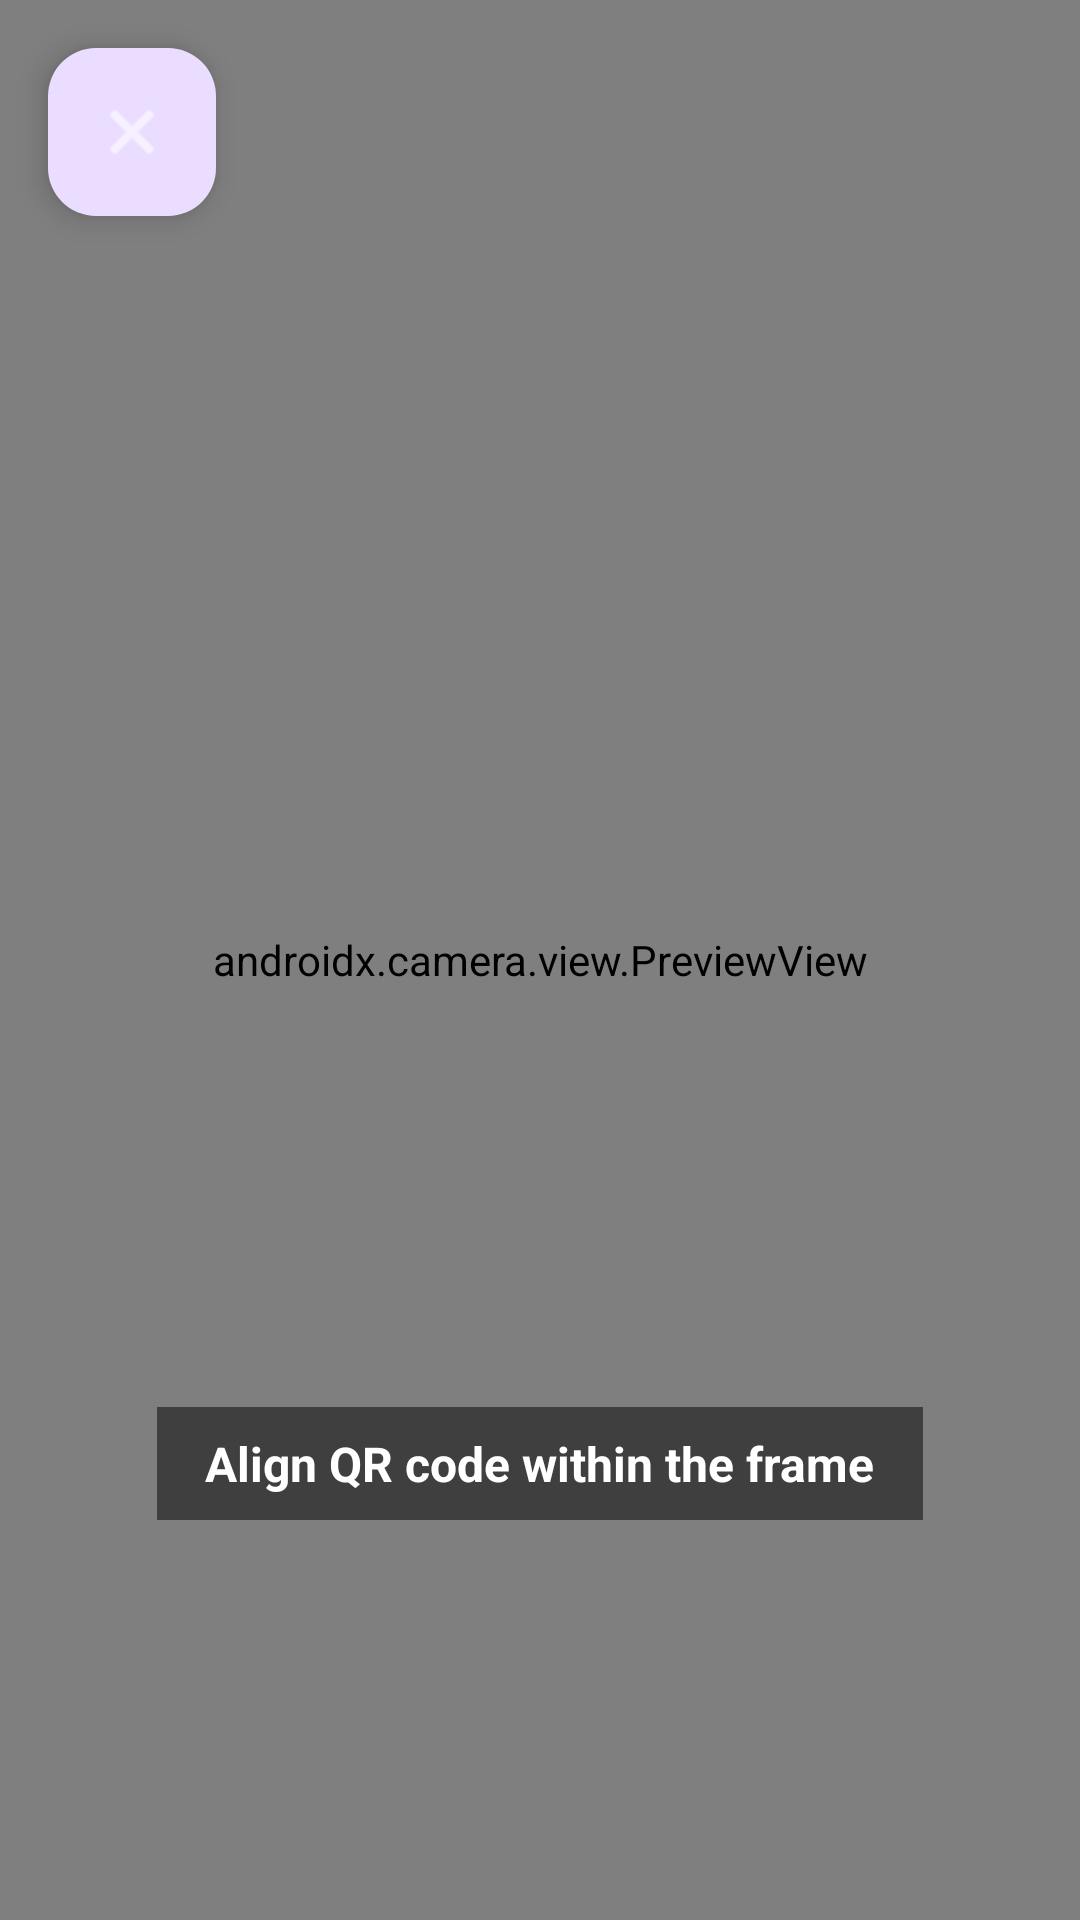

Icons on this 1080w x 1920h Android screen, each with its box as box(x1, y1, x2, y2):
close clear cancel: box(48, 48, 216, 216)
